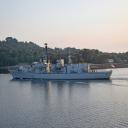Fragata: (9, 39, 115, 81)
